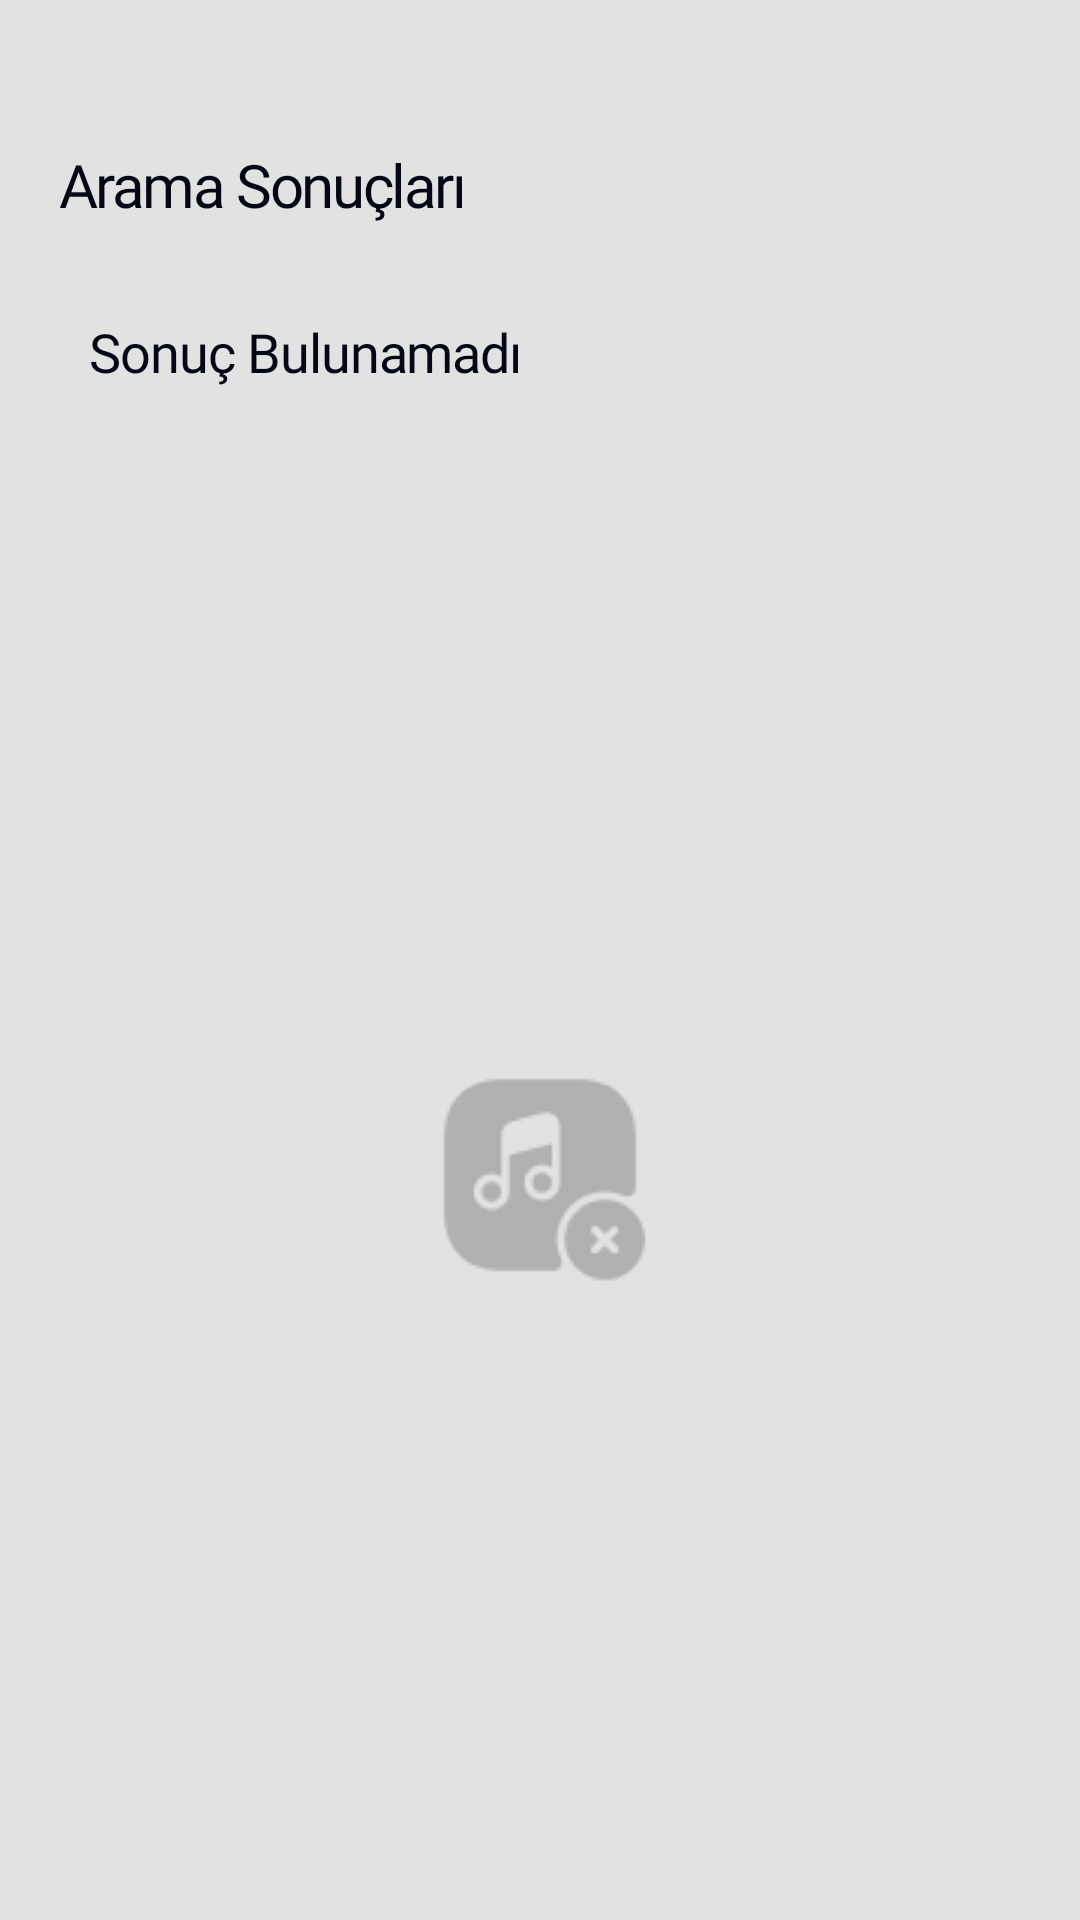

Icons on this 1080*1920 Android screen, each with the point to tap as [x,y]:
music square remove: [544,1179]
